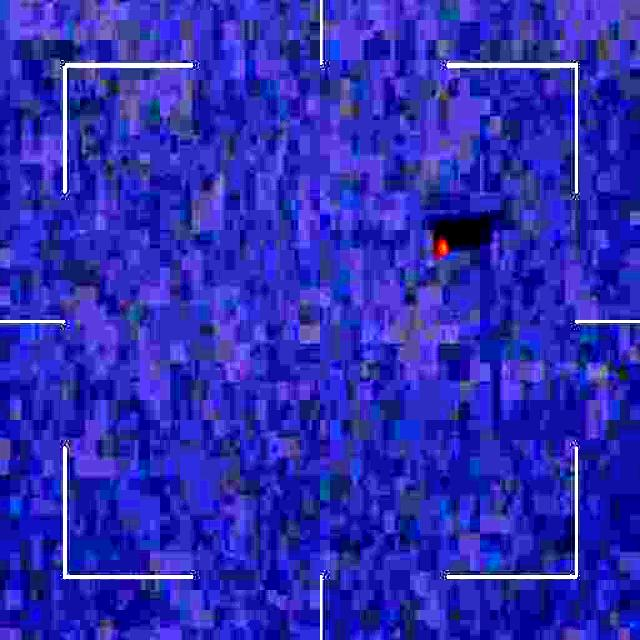bird: (428, 225, 458, 264)
